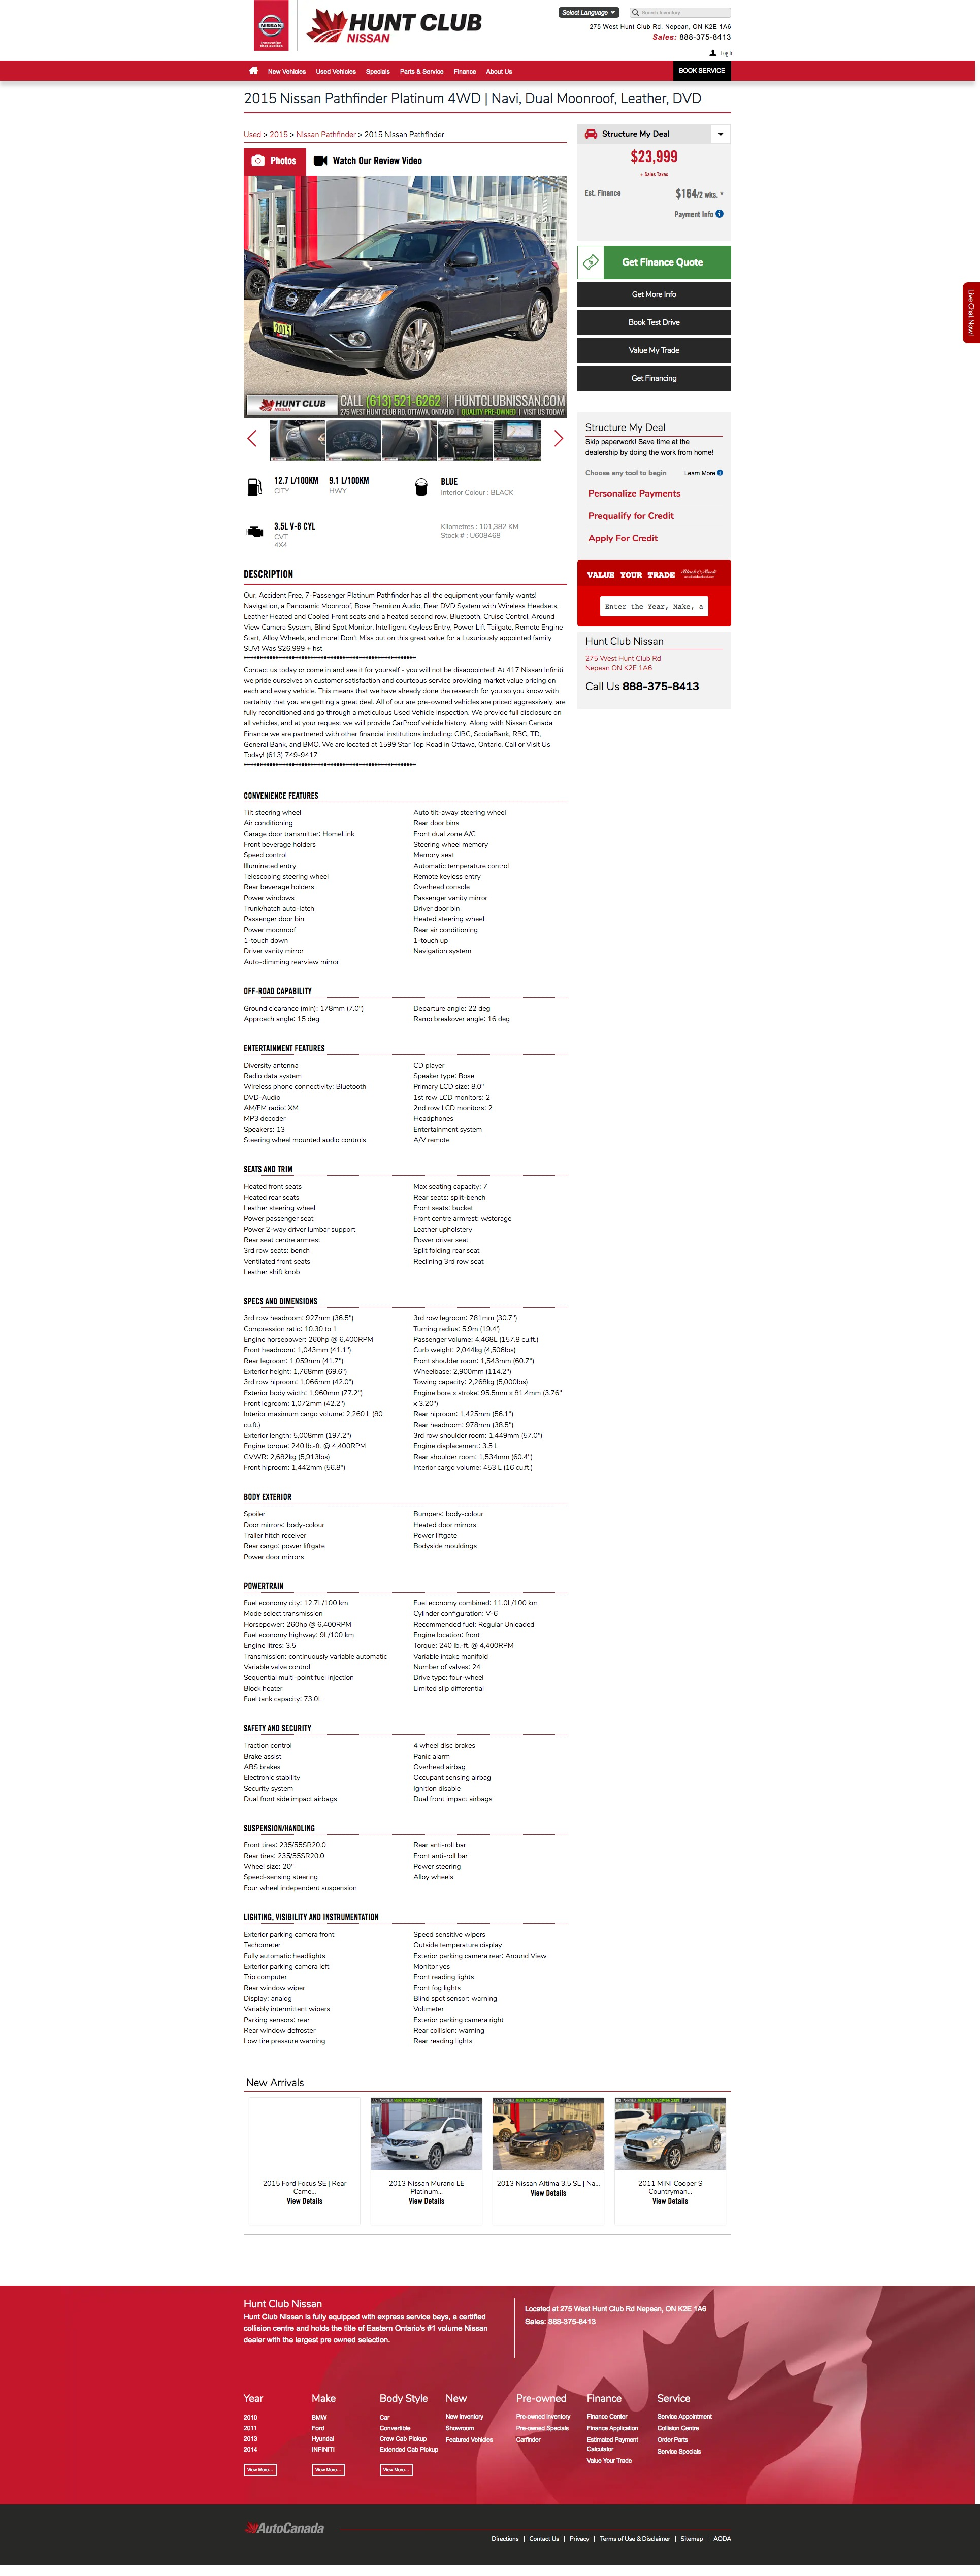car: (554, 429, 564, 447)
